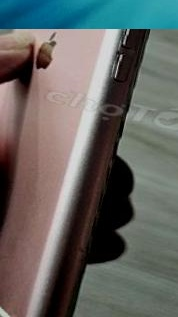scratch: (93, 29, 159, 91), (0, 287, 69, 317)
